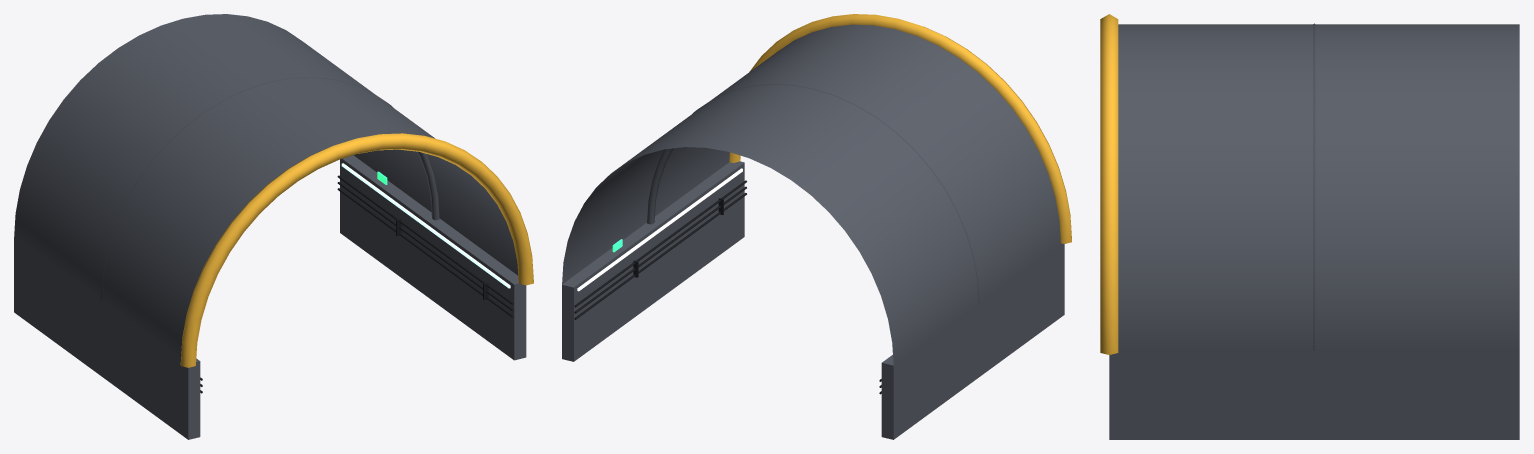
Rendered from tunnel.glb.
3 views of the same model, side by side, from view 1: azimuth 30°, elevation 25°; view 2: azimuth 150°, elevation 25°; view 3: azimuth 270°, elevation 25° (orthographic). The views are drawn at different scales.
Parts seen in each view (by area): view 1: tunnel; view 2: tunnel; view 3: tunnel.
Boxes of the visible parts, left/top/right/bottom form: tunnel: left=14, top=14, right=533, bottom=439; tunnel: left=562, top=14, right=1071, bottom=439; tunnel: left=1100, top=14, right=1519, bottom=439.
Bounding box in the file's own units: 11.7 × 8.25 × 10.22.
